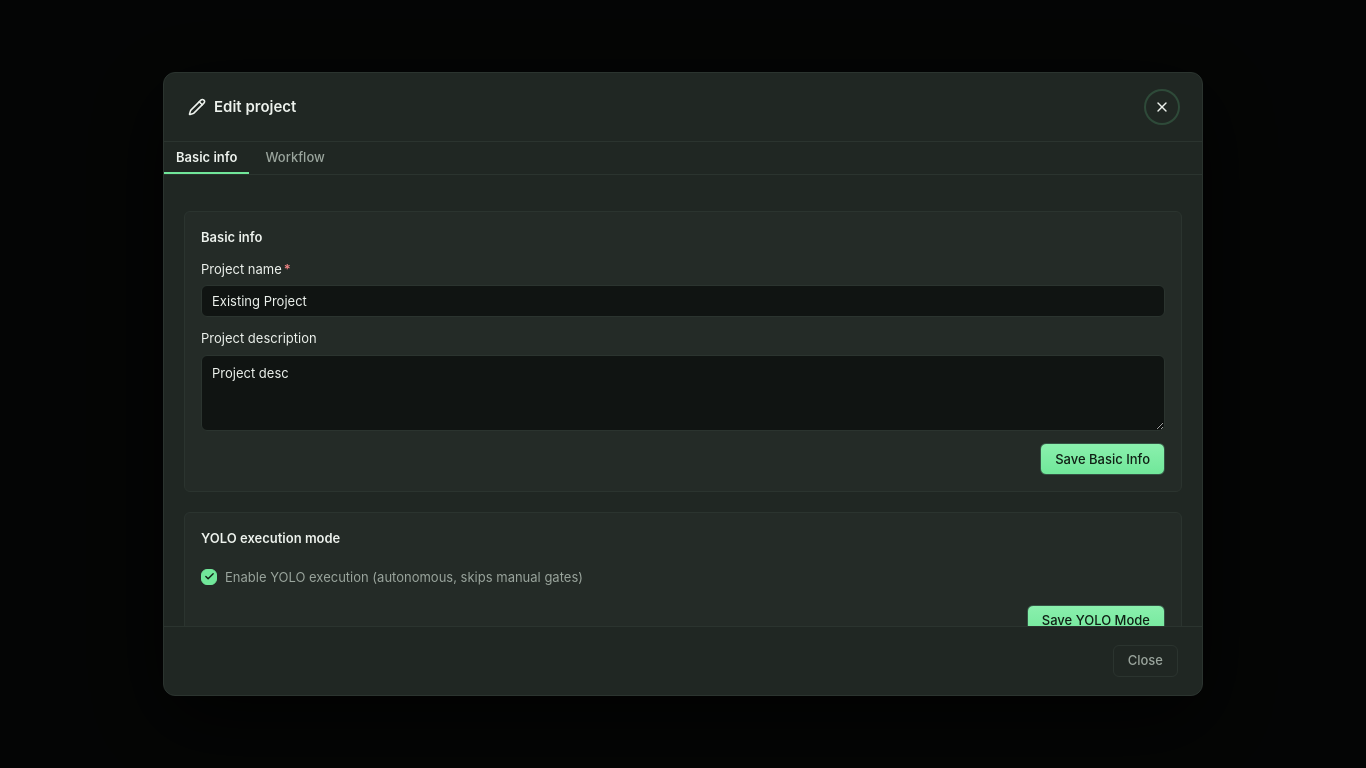
Projects 双语渲染 › 工作流编辑器在 en-US 下渲染完整英文文案与共享阶段标签
Click the tab "Workflow" at [295, 158], box 254,142 -> 337,174
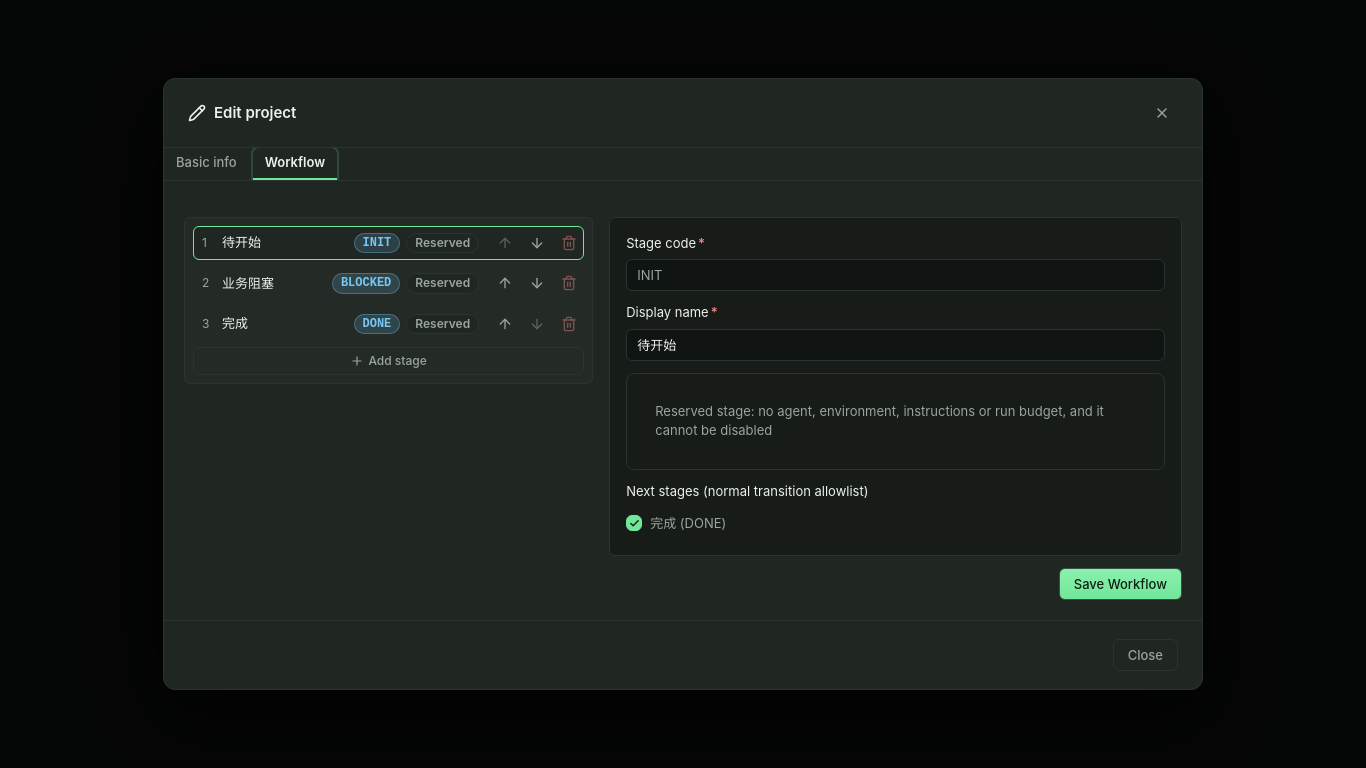
Result: the list named "Workflow stages" is shown at 184,217 -> 593,384
Result: the button "Add stage" is shown at 193,347 -> 584,375
Result: the button "Save Workflow" is shown at 1059,568 -> 1182,600
